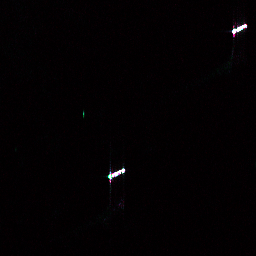ship: (105, 165, 127, 181), (229, 21, 249, 36)
